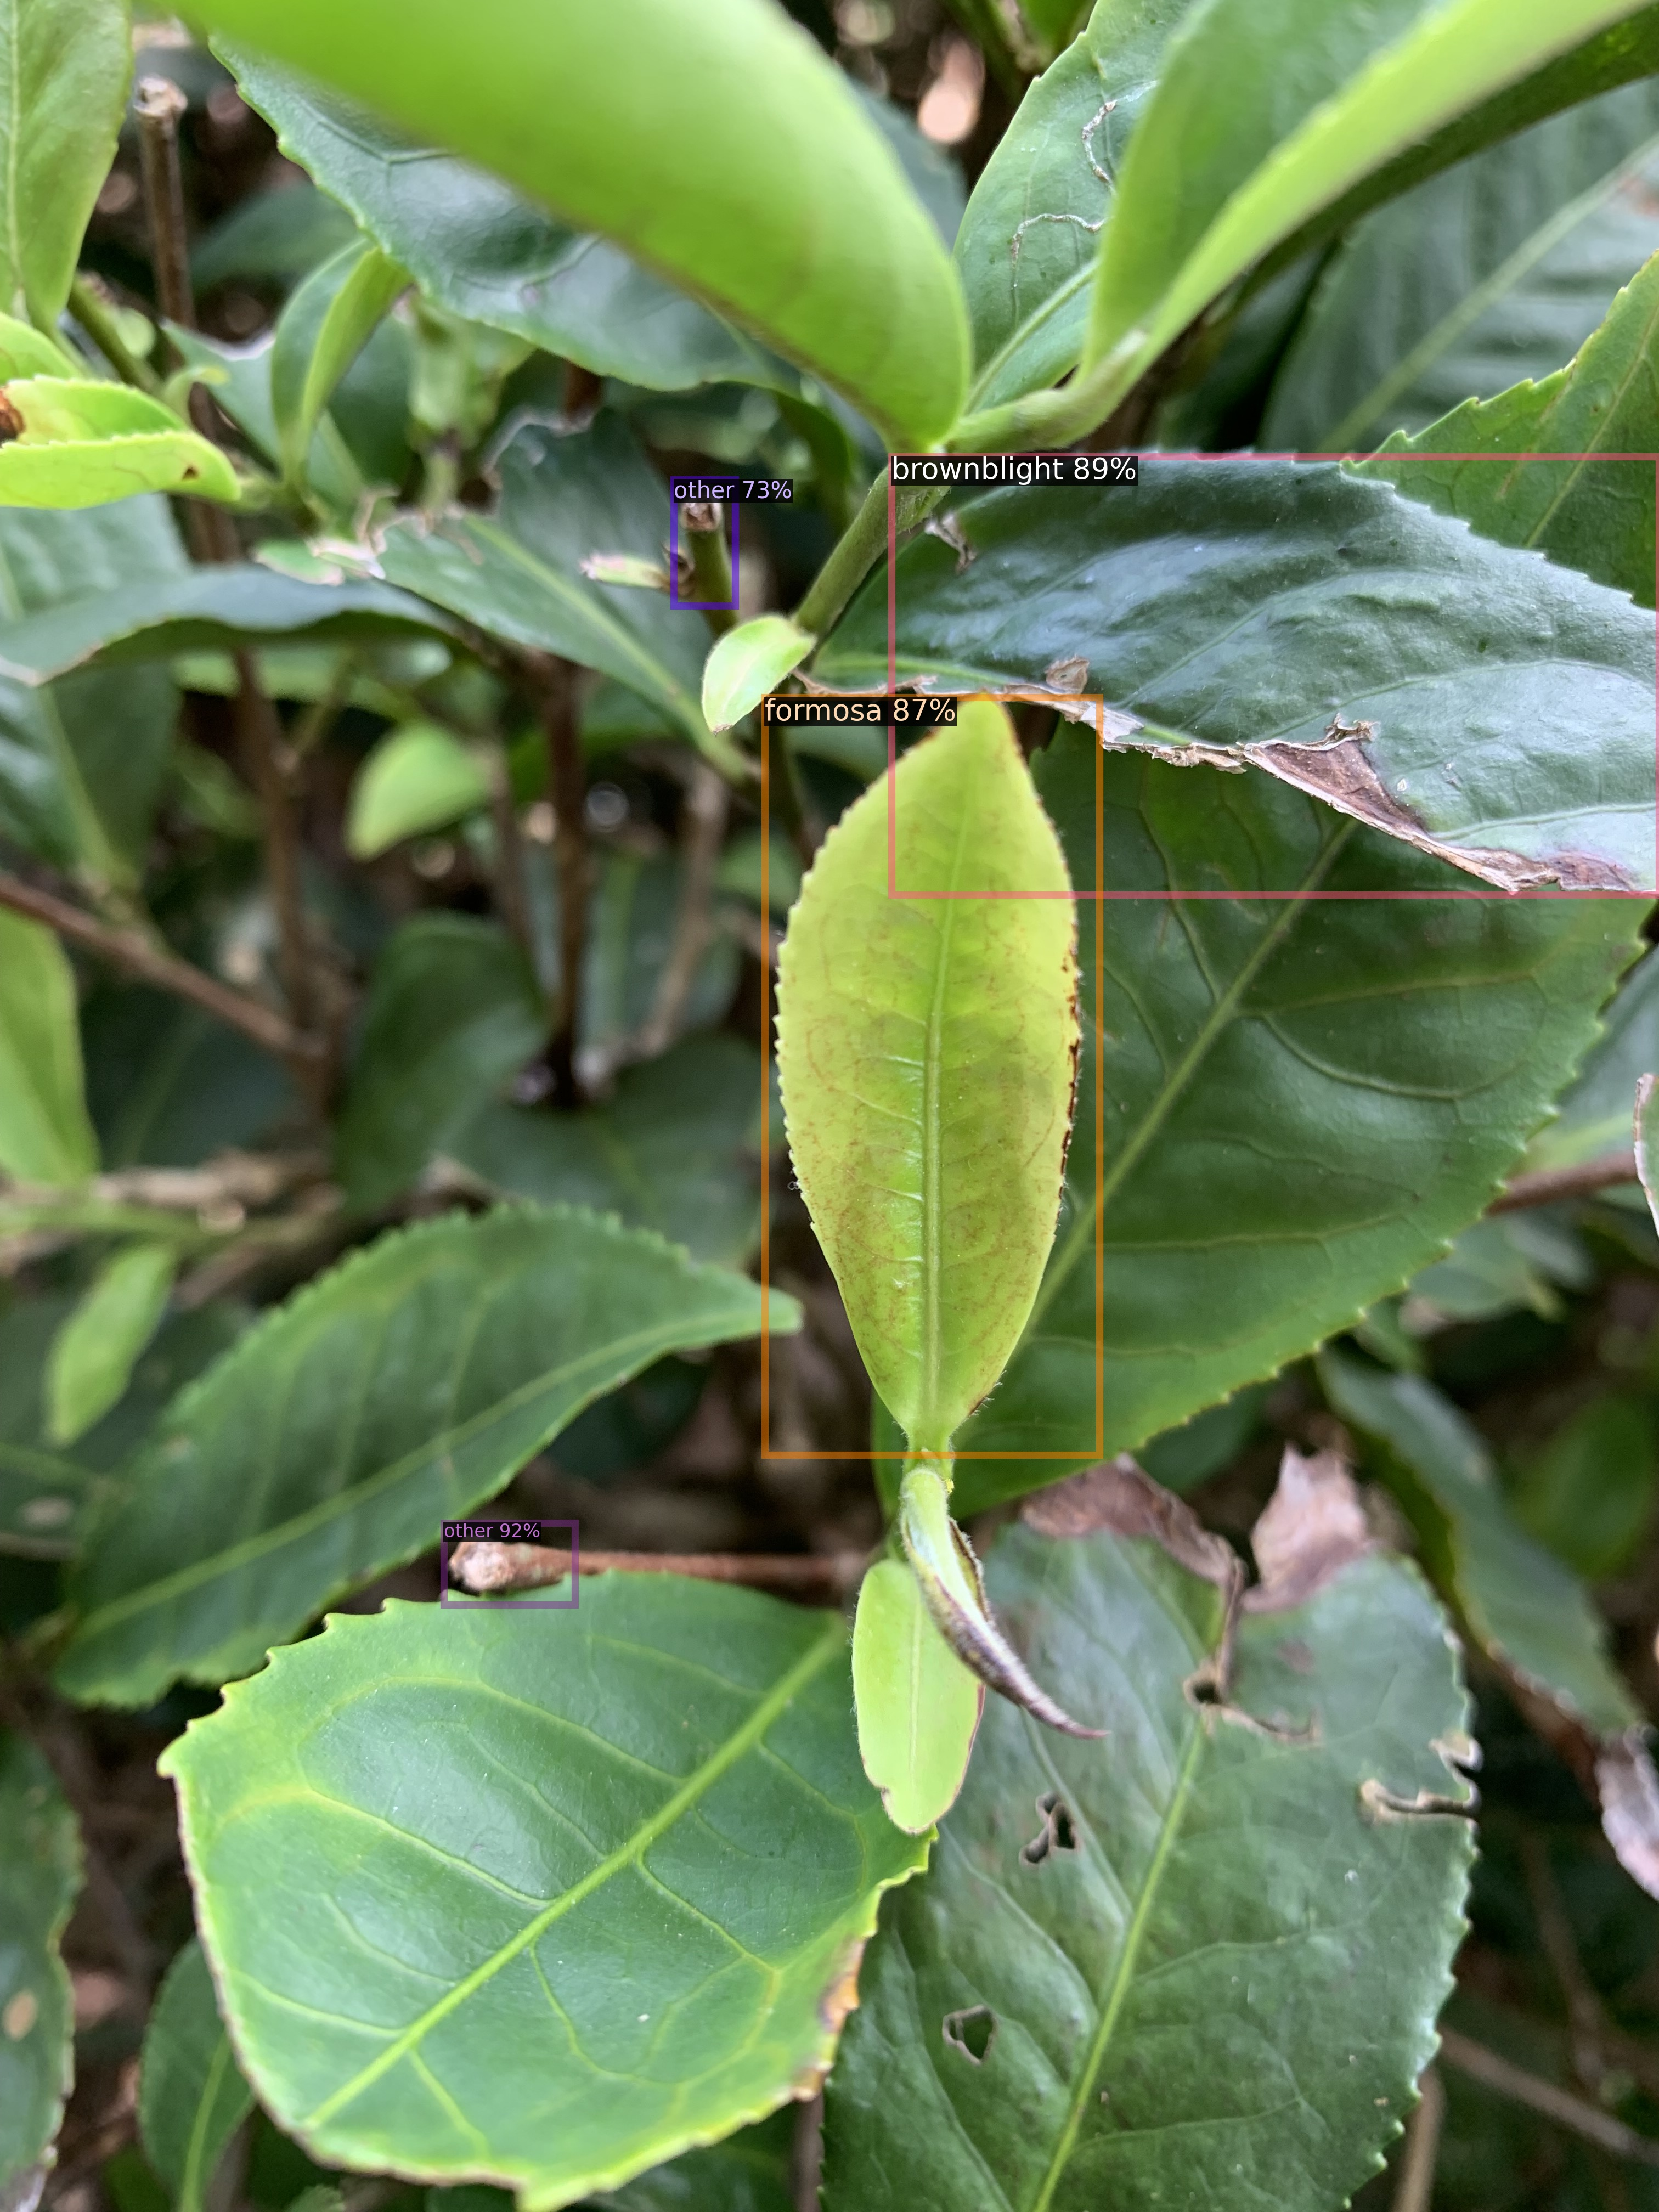brownblight: (892, 456, 1659, 894)
formosa: (765, 697, 1100, 1454)
other: (444, 1522, 575, 1604), (674, 479, 735, 606)
